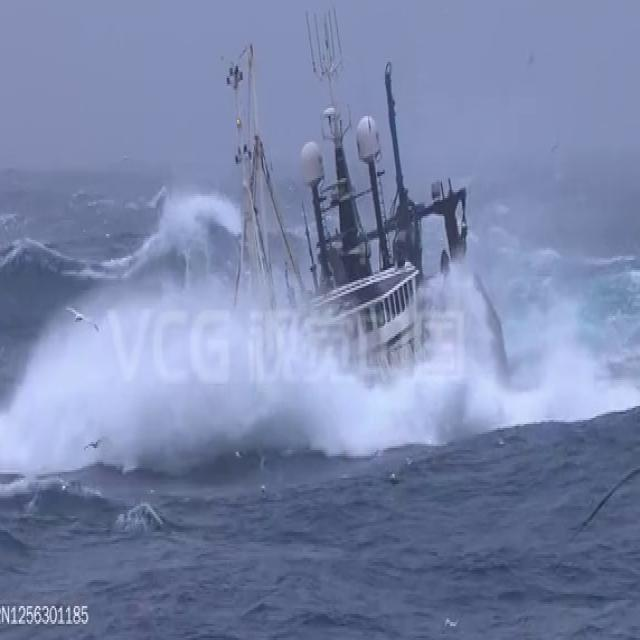houseboat: (199, 56, 512, 462)
